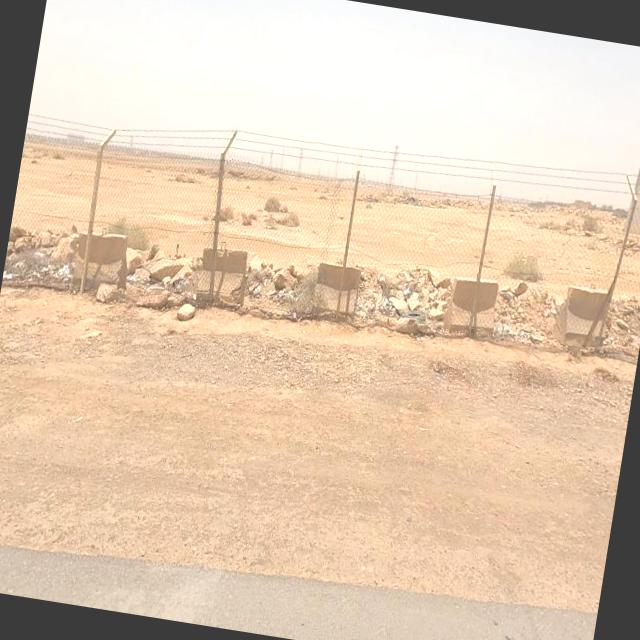debris: (376, 276, 450, 356), (222, 247, 292, 327), (34, 233, 94, 307), (10, 248, 71, 298), (112, 256, 154, 302), (391, 264, 423, 313)
